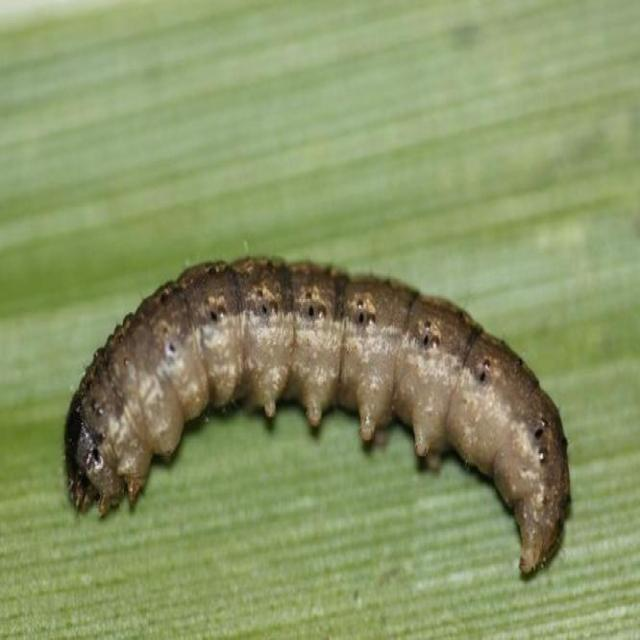black cutworm: (64, 247, 570, 583)
